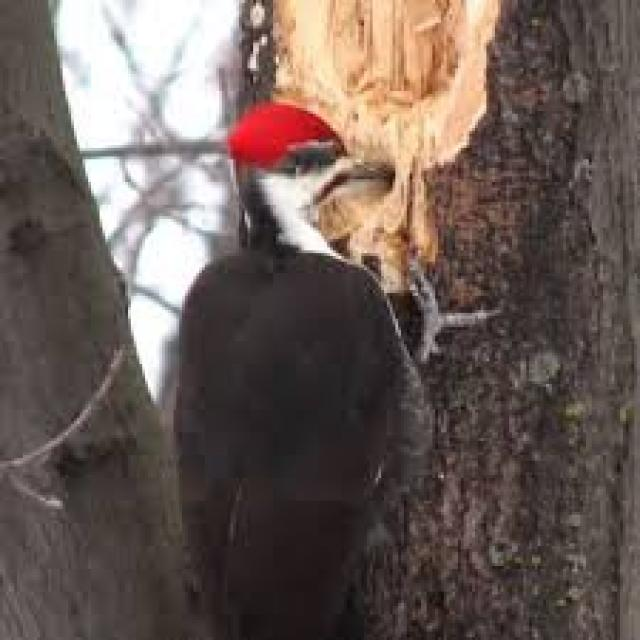Woodpecker: (171, 90, 460, 630)
